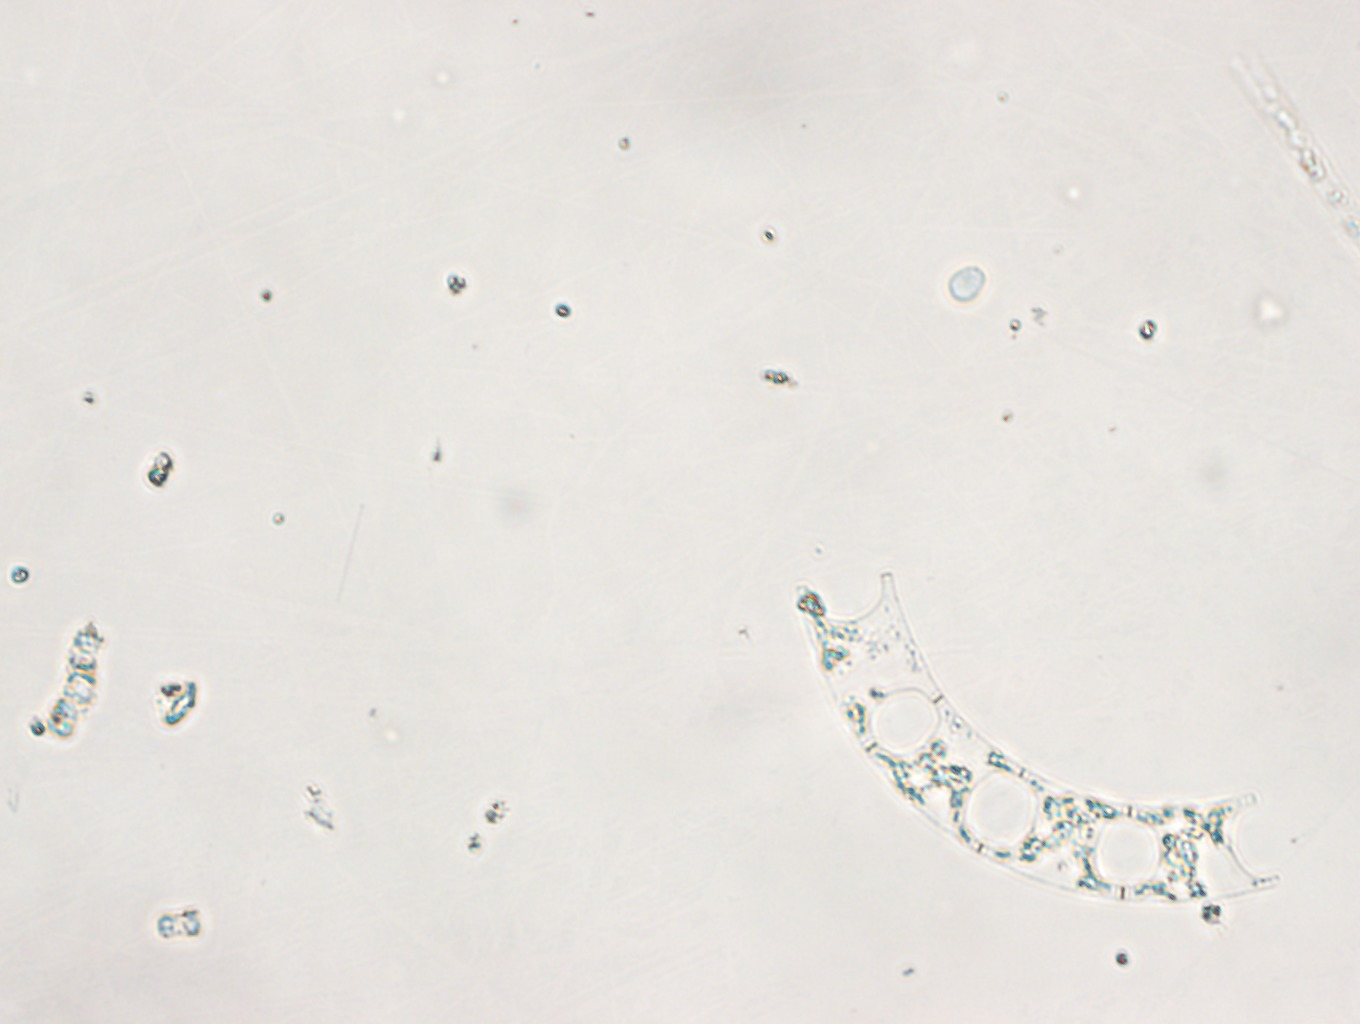eucampia: (788, 569, 1282, 907)
